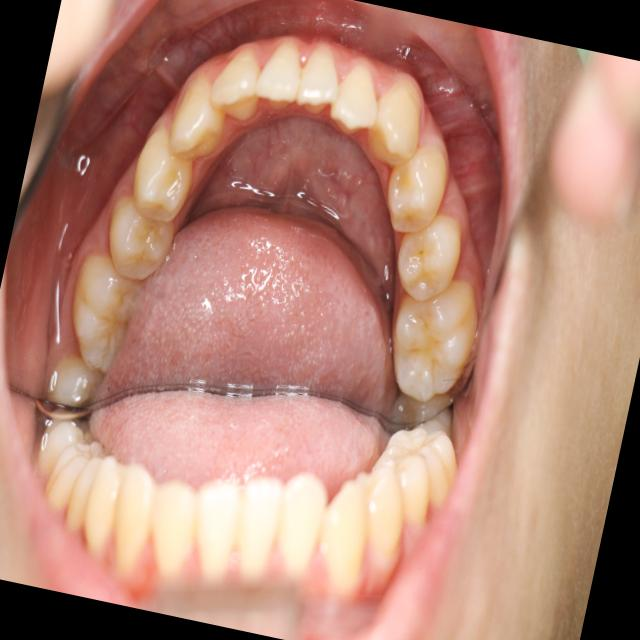tooth: (370, 263, 492, 417), (55, 242, 153, 381), (94, 178, 189, 292), (383, 196, 475, 311), (121, 116, 206, 234), (370, 130, 457, 245), (158, 64, 237, 172), (359, 65, 433, 174), (202, 39, 272, 130), (38, 339, 116, 415), (323, 57, 388, 146), (247, 33, 311, 120), (289, 38, 347, 121)
